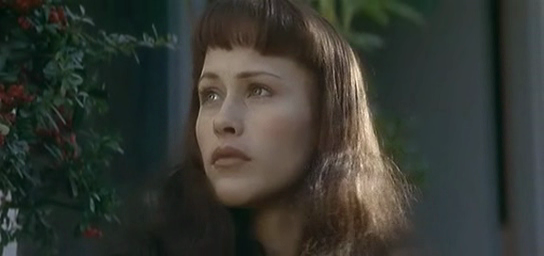cu: (1, 1, 544, 256)
face: (194, 44, 300, 207)
person: (118, 1, 419, 256)
